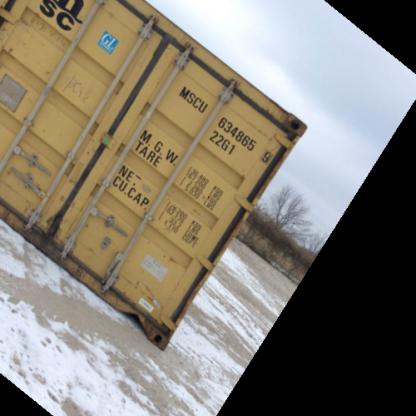Damage: (112, 274, 169, 333), (24, 202, 71, 259), (26, 2, 73, 51), (58, 62, 97, 115), (266, 103, 304, 140), (180, 197, 203, 228), (1, 36, 14, 64)
